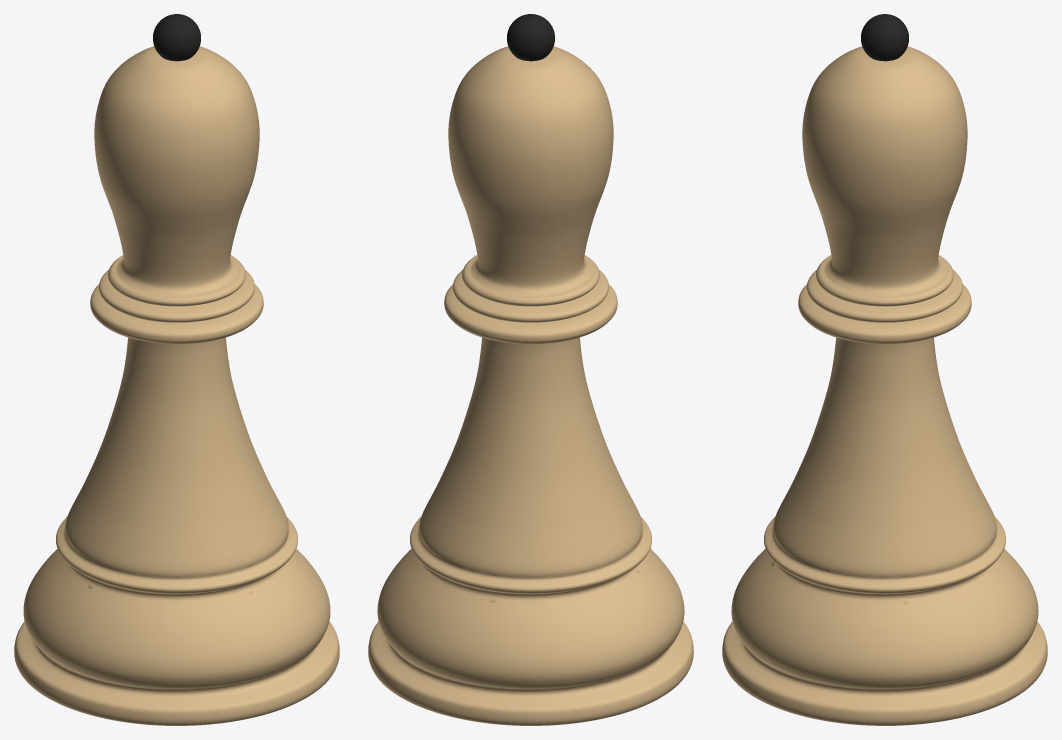
File: bishop.glb
The picture shows the model from 3 angles, left to right: view 1: azimuth 30°, elevation 25°; view 2: azimuth 150°, elevation 25°; view 3: azimuth 270°, elevation 25°; orthographic projection.
Parts seen in each view (by area): view 1: Bishop.002; view 2: Bishop.002; view 3: Bishop.002.
Boxes of the visible parts, box(x1,y1,x2,y2) form: Bishop.002: box(14, 14, 339, 725); Bishop.002: box(368, 14, 693, 725); Bishop.002: box(722, 14, 1047, 725).
Bounding box in the file's own units: 0.0357 × 0.0787 × 0.0357.
